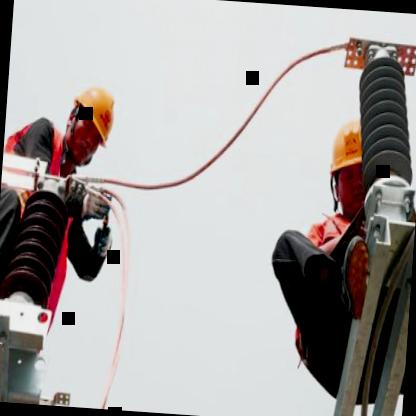helmet: (325, 120, 378, 226), (64, 87, 118, 163)
